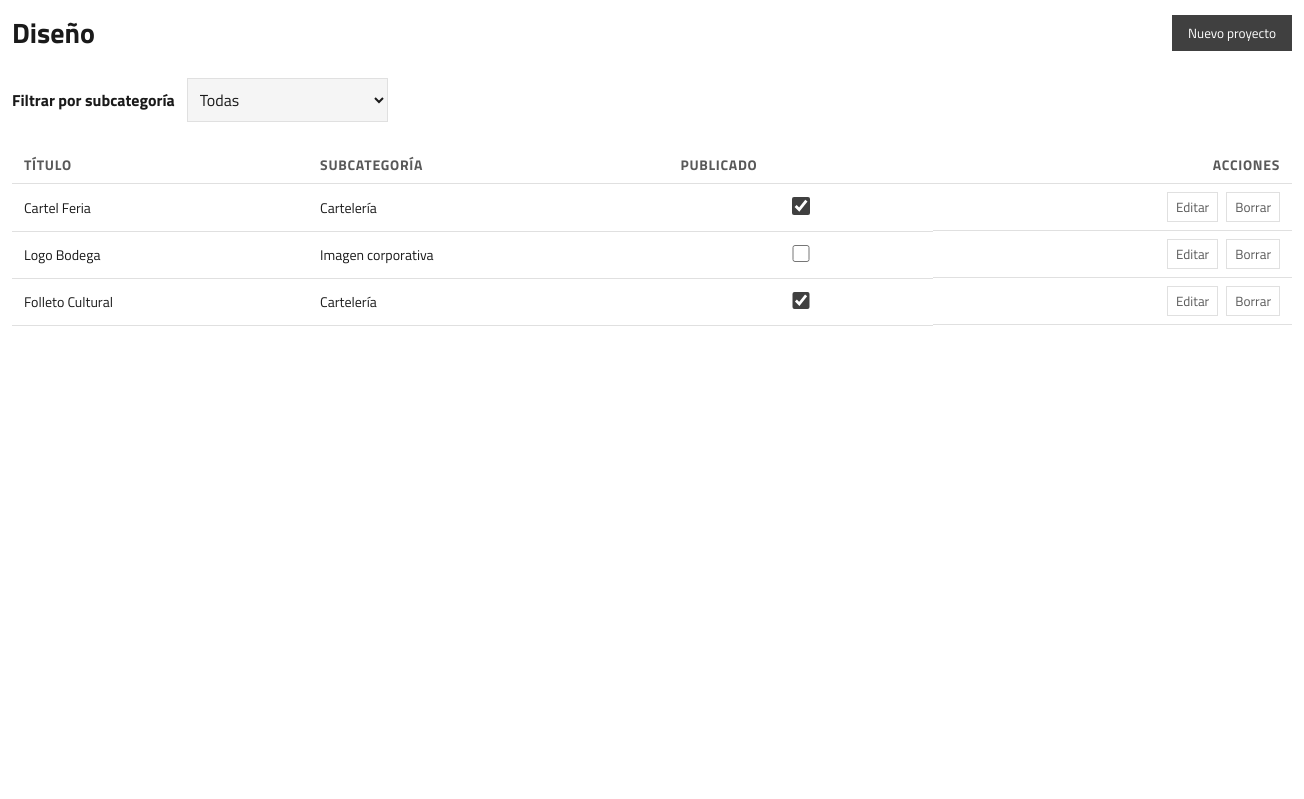
Test case: AdminDesign › valida título y subcategoría obligatorios antes de crear
Expected: the cell "Cartel Feria" is shown, [12,184,308,231]
Click the button "Nuevo proyecto".
click(1232, 33)  # box [1172,15,1292,51]
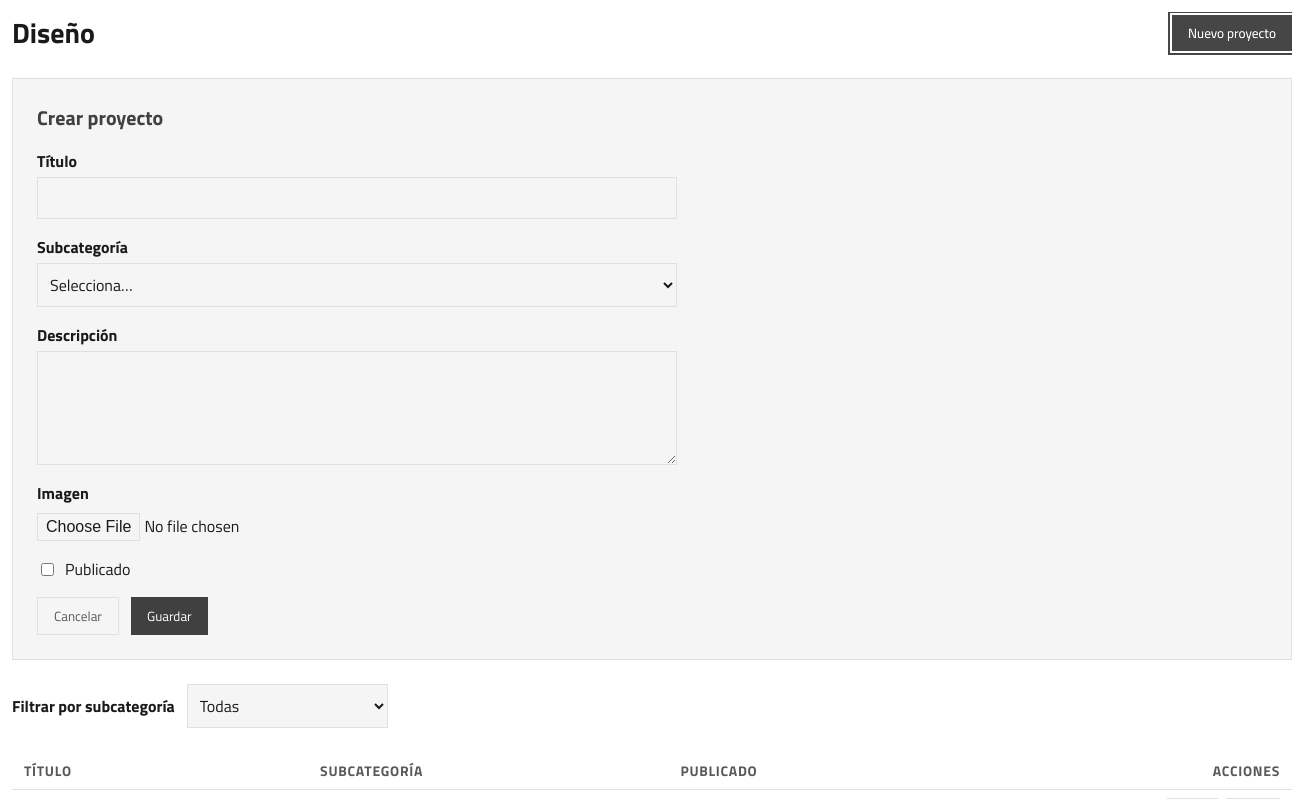
Click the button "Guardar".
click(169, 616)  # box [131,597,208,635]
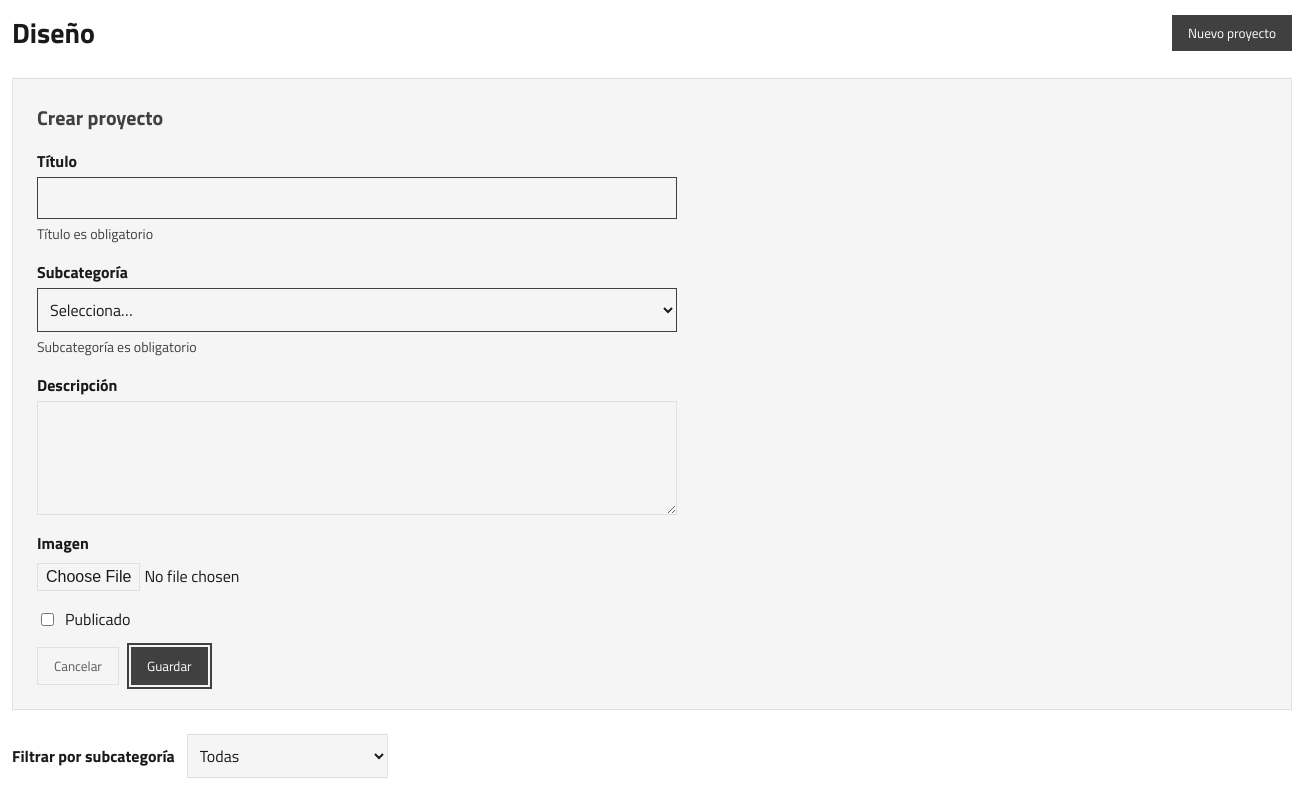
Expected: the text "Título es obligatorio" is shown, [37,223,153,244]
Expected: the text "Subcategoría es obligatorio" is shown, [37,336,197,357]
